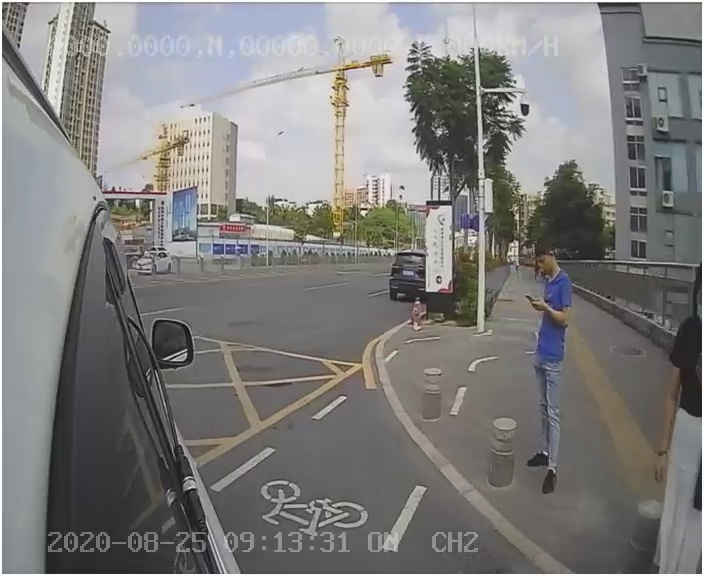person: (516, 244, 583, 498)
